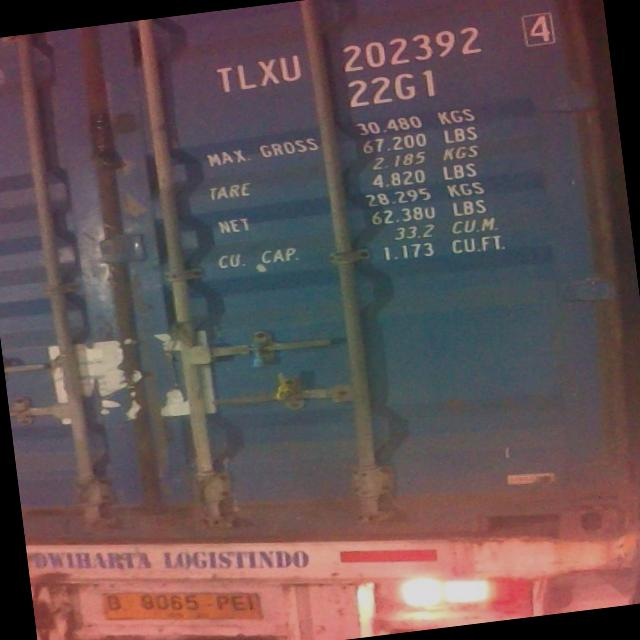seal: (248, 338, 272, 372), (272, 375, 294, 401)
